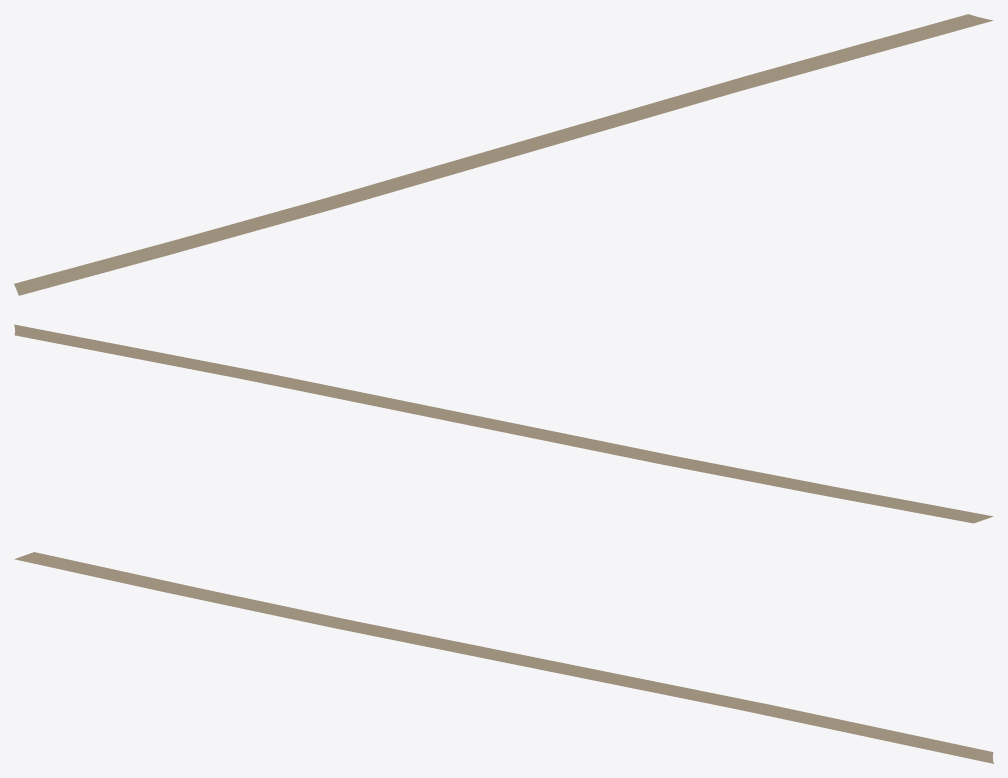
Rendered from farm_24_11_track.glb.
3 renders of one model, top to bottom at view 1: azimuth 30°, elevation 25°; view 2: azimuth 150°, elevation 25°; view 3: azimuth 330°, elevation 25°, orthographic. The views are drawn at different scales.
Parts seen in each view (by area): view 1: geometry_0; view 2: geometry_0; view 3: geometry_0.
Boxes of the visible parts, <box> form: geometry_0: <box>14,14,993,295</box>; geometry_0: <box>14,324,993,523</box>; geometry_0: <box>14,552,993,763</box>.
Bounding box in the file's own units: 148 × 0.9729 × 14.55.
